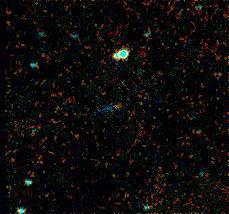star: (104, 93, 134, 123)
